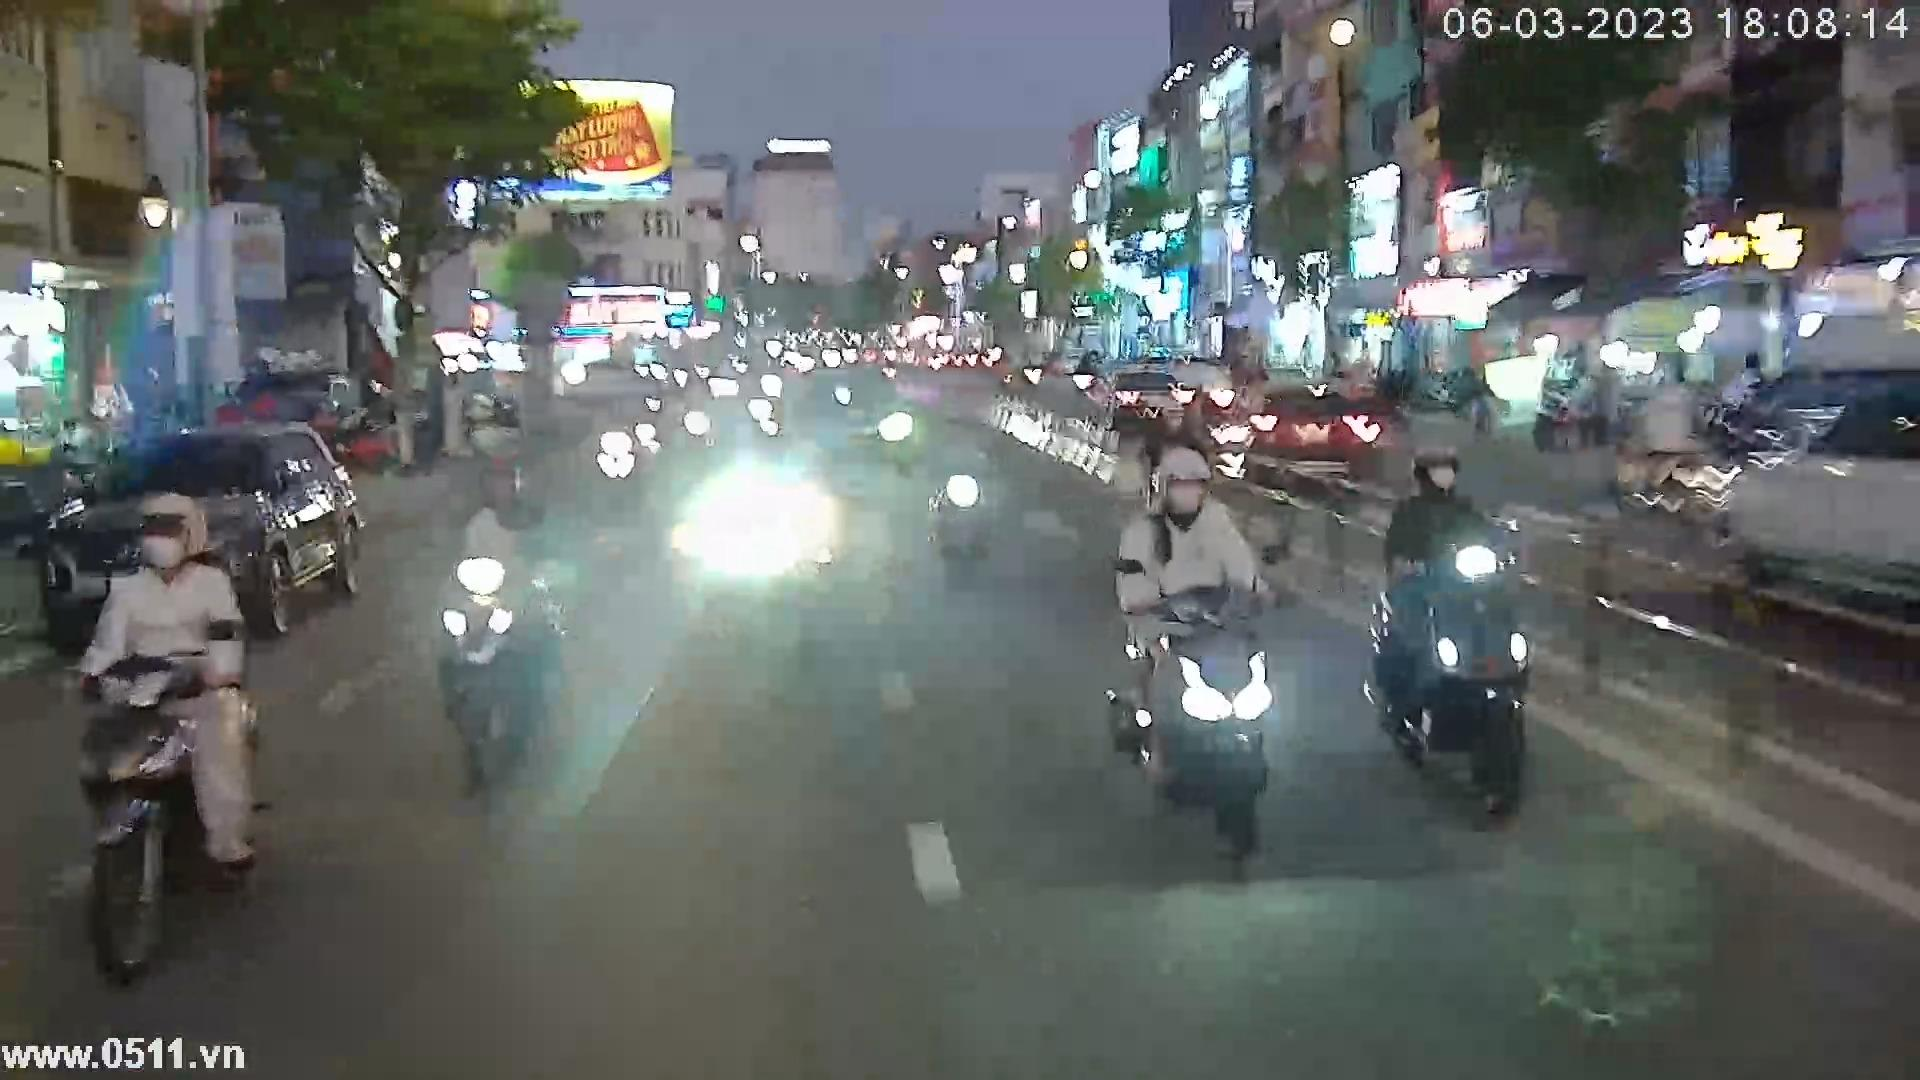bus: (1725, 313, 1920, 596)
car: (38, 421, 368, 645), (1250, 378, 1381, 469)
motorcycle: (67, 491, 269, 990), (1100, 438, 1287, 851), (1361, 433, 1539, 828), (433, 442, 575, 793), (1606, 356, 1734, 538)
